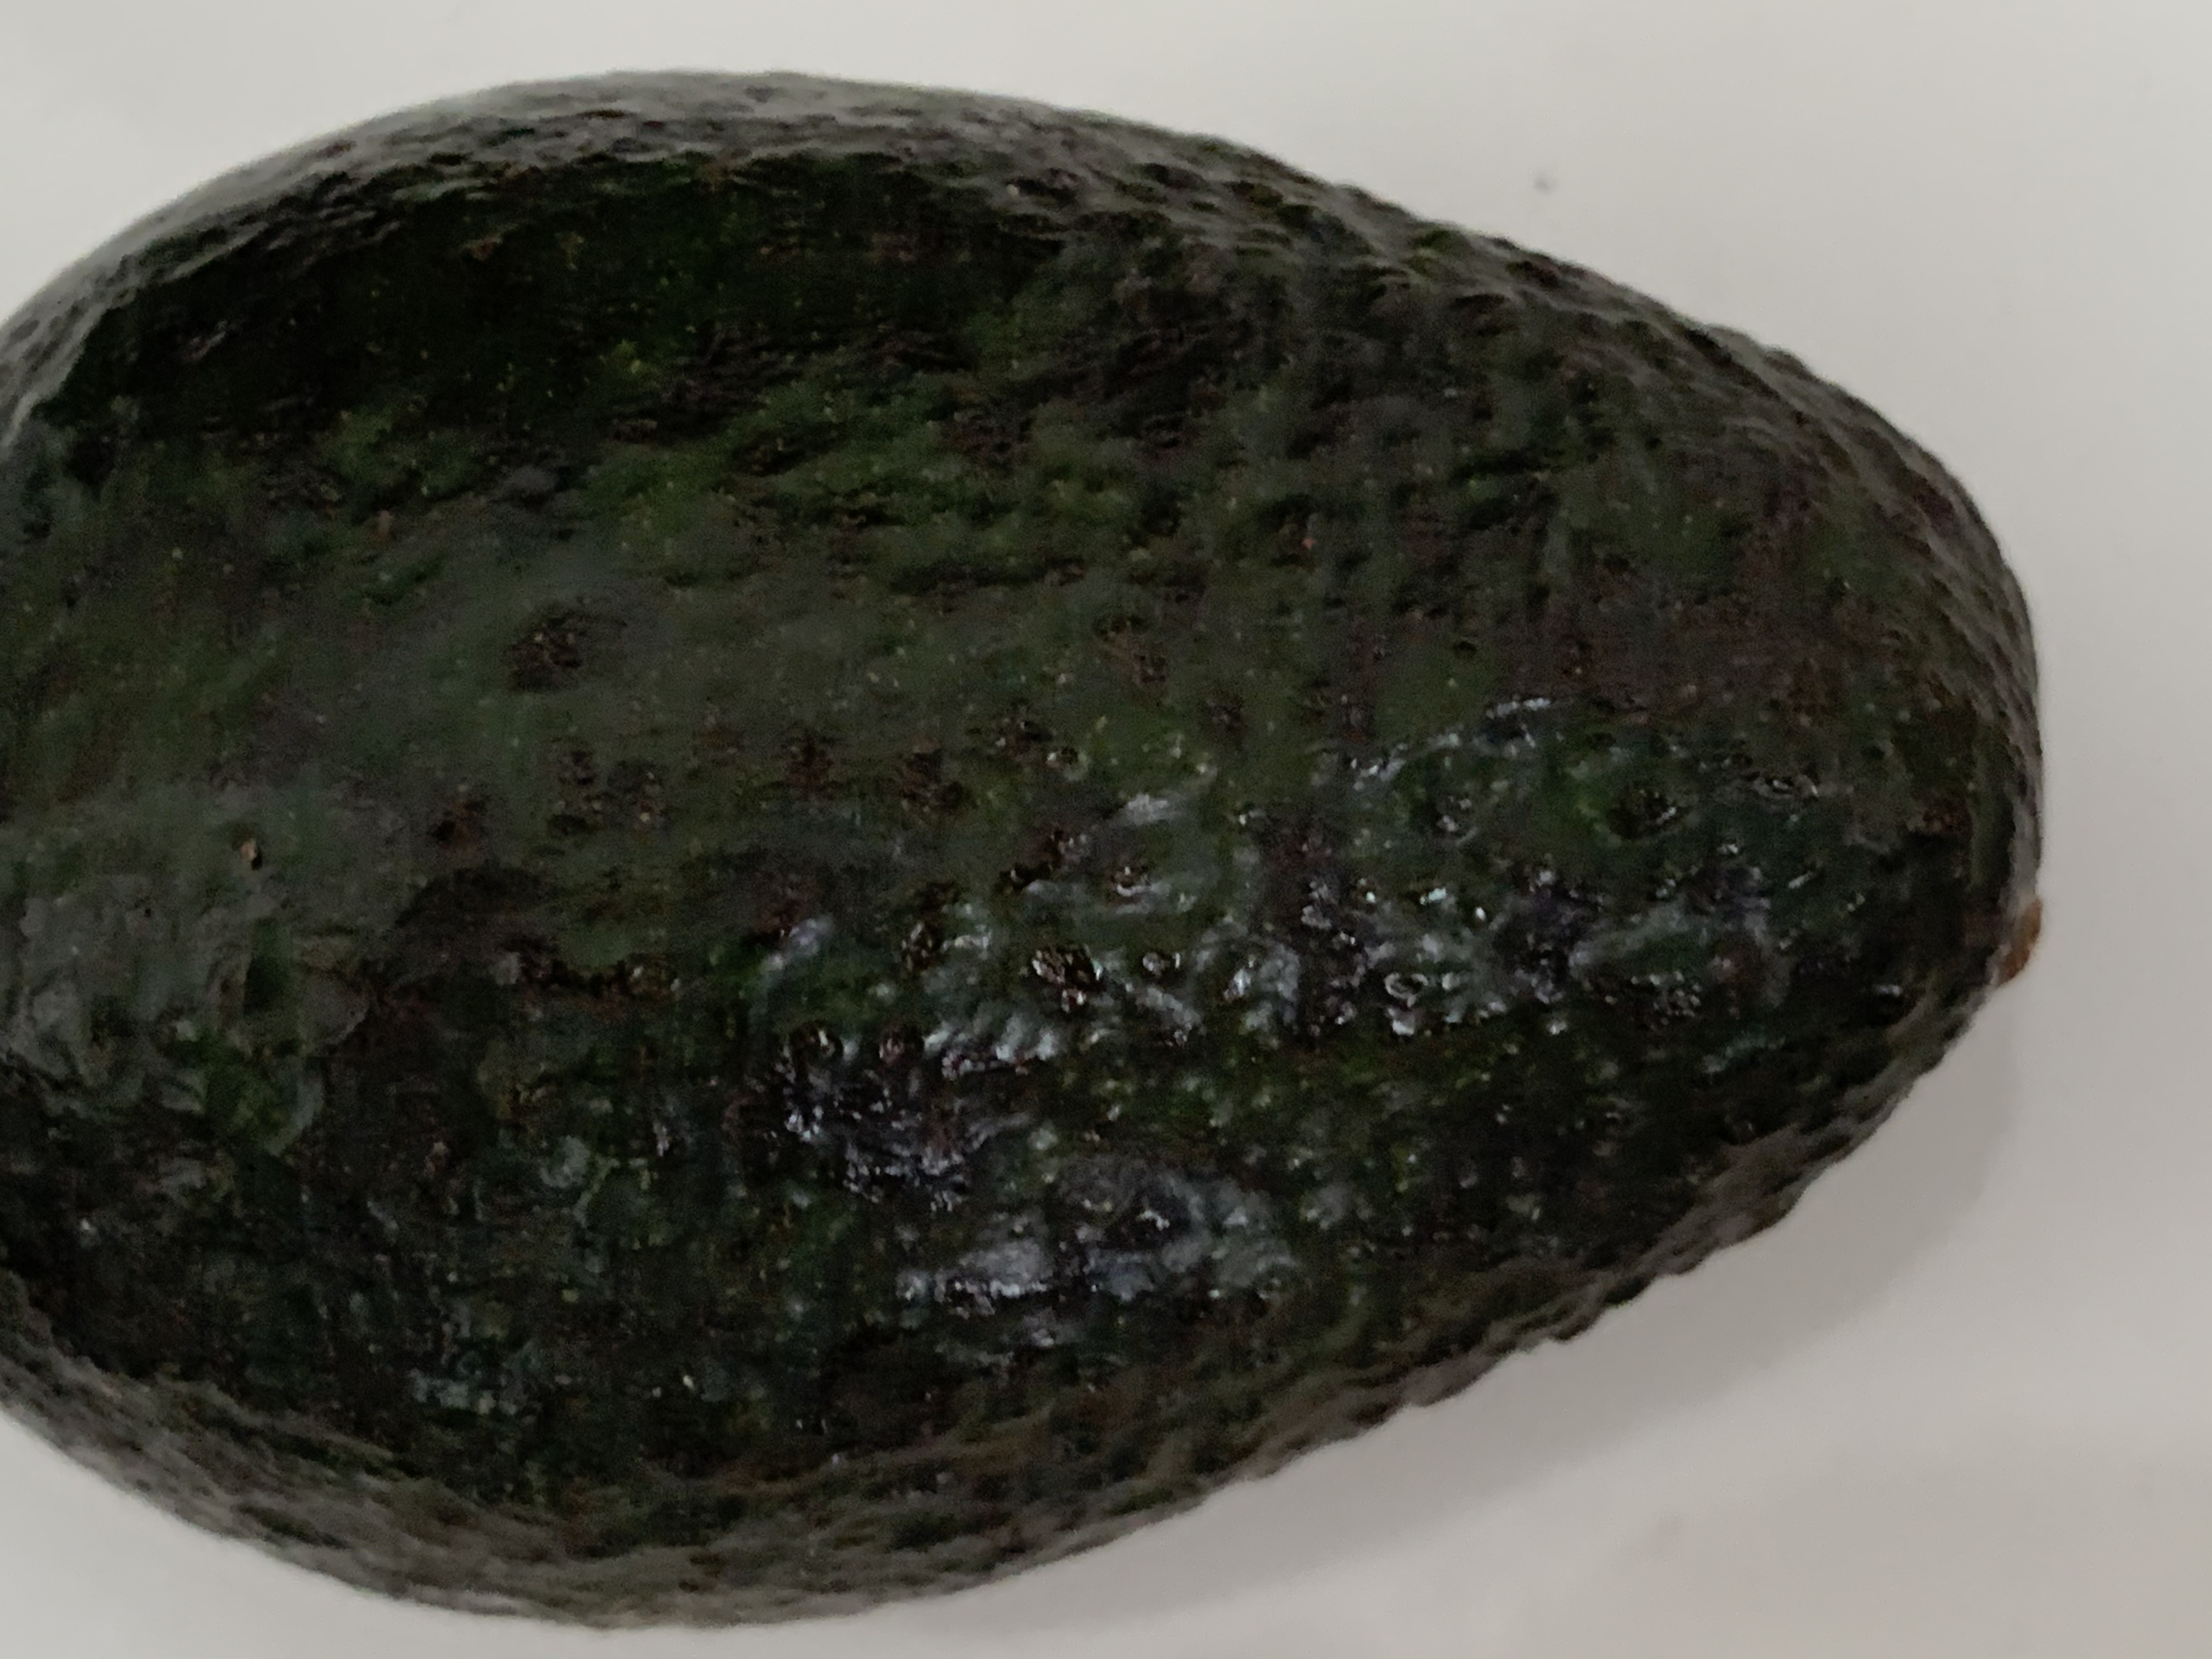avocado: (9, 61, 2040, 1621)
